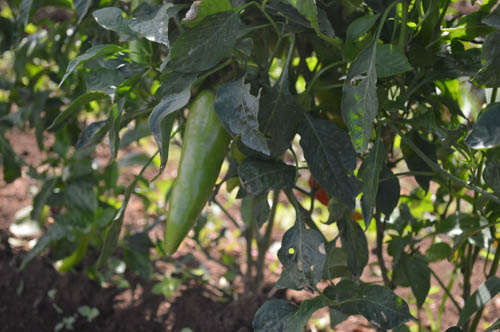ChiliPepper: (164, 91, 228, 265)
